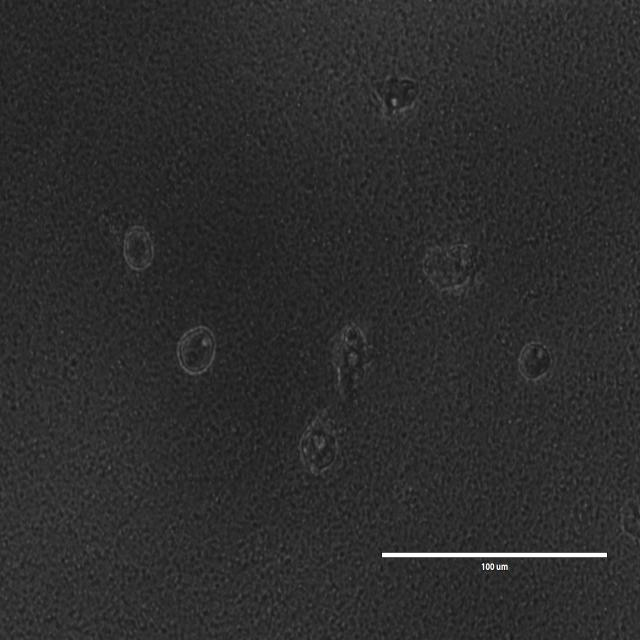Amoeba: (422, 243, 491, 296), (336, 322, 372, 412), (297, 415, 341, 476), (177, 326, 217, 376), (376, 76, 422, 115), (123, 228, 157, 274), (519, 338, 550, 384), (620, 498, 640, 540)
